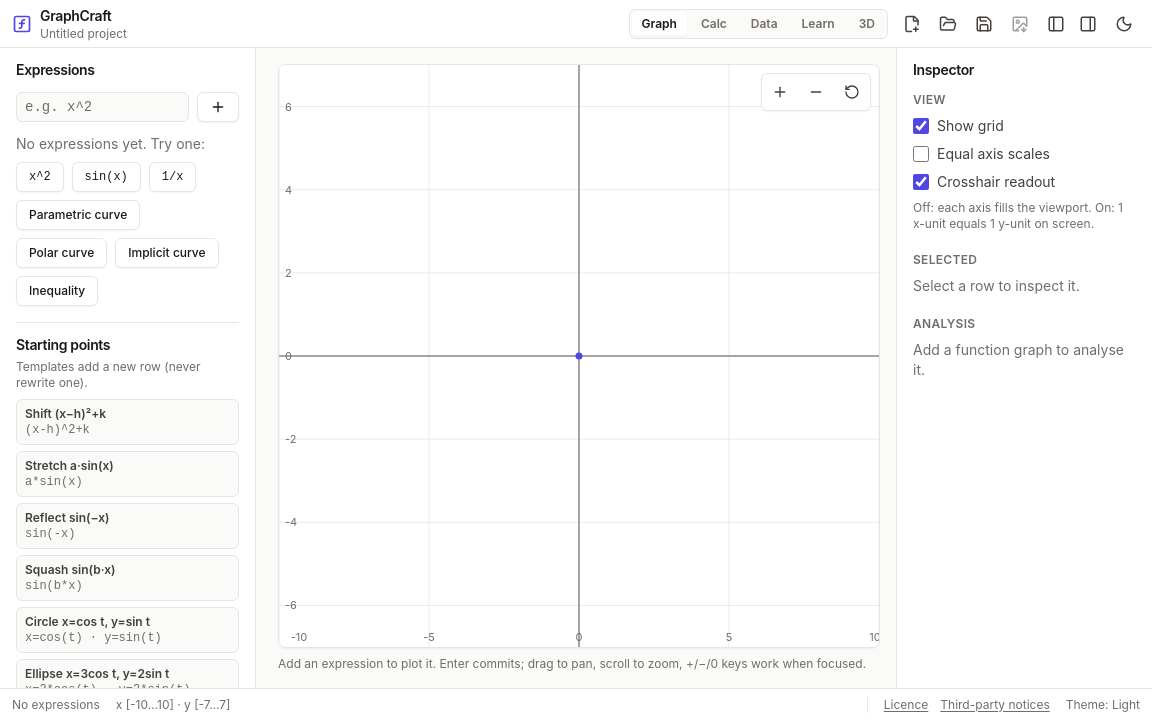
calculator workspace › builds expressions from the keypad, including Backspace
Click the button with aria-label "Show calculator" at coordinates (714, 24), box [691,12,737,36]
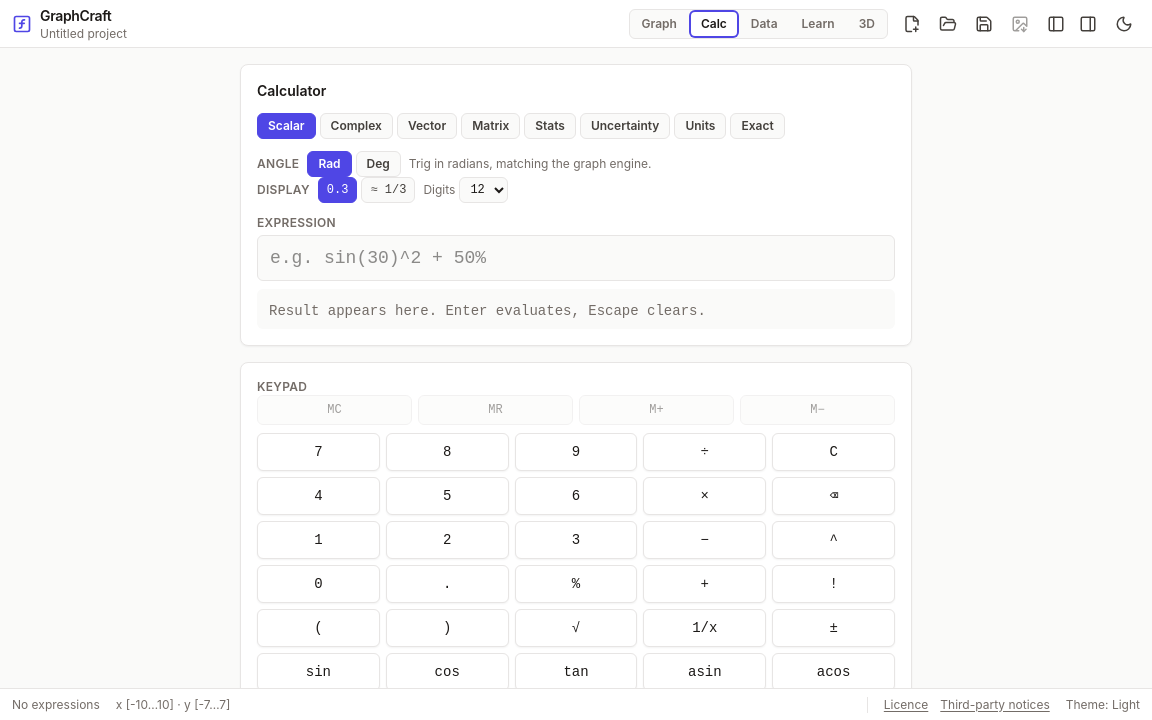
Now the element "Calculator" is shown
Now the field labelled "Expression" is shown, box [257,235,895,281]
Click the button named "Seven" at coordinates (318, 452), box [257,433,380,471]
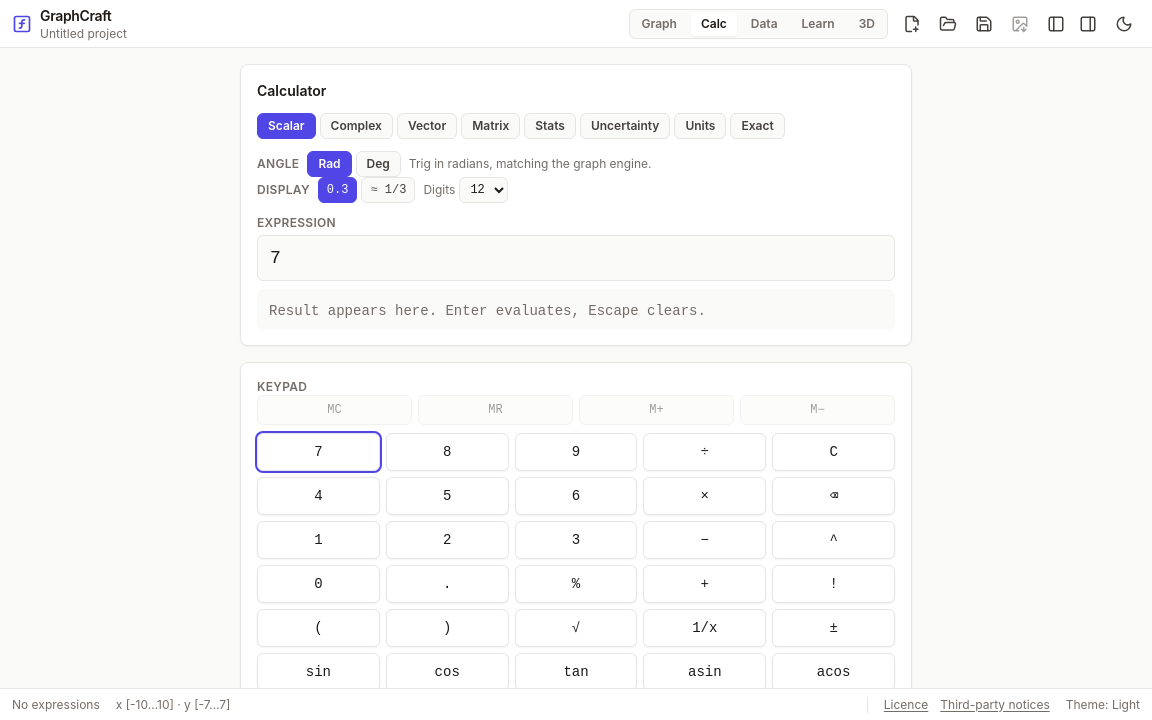
Click the button named "Multiply" at coordinates (705, 496), box [643,477,766,515]
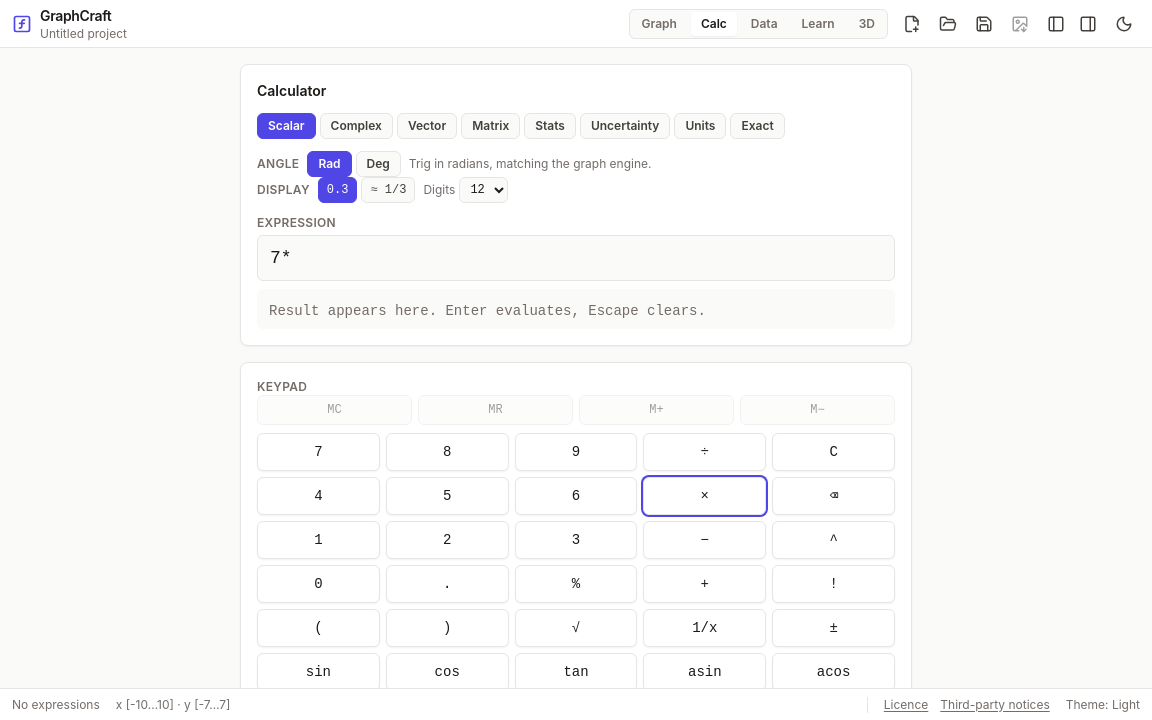
Click the button named "Six" at coordinates (576, 496), box [515,477,637,515]
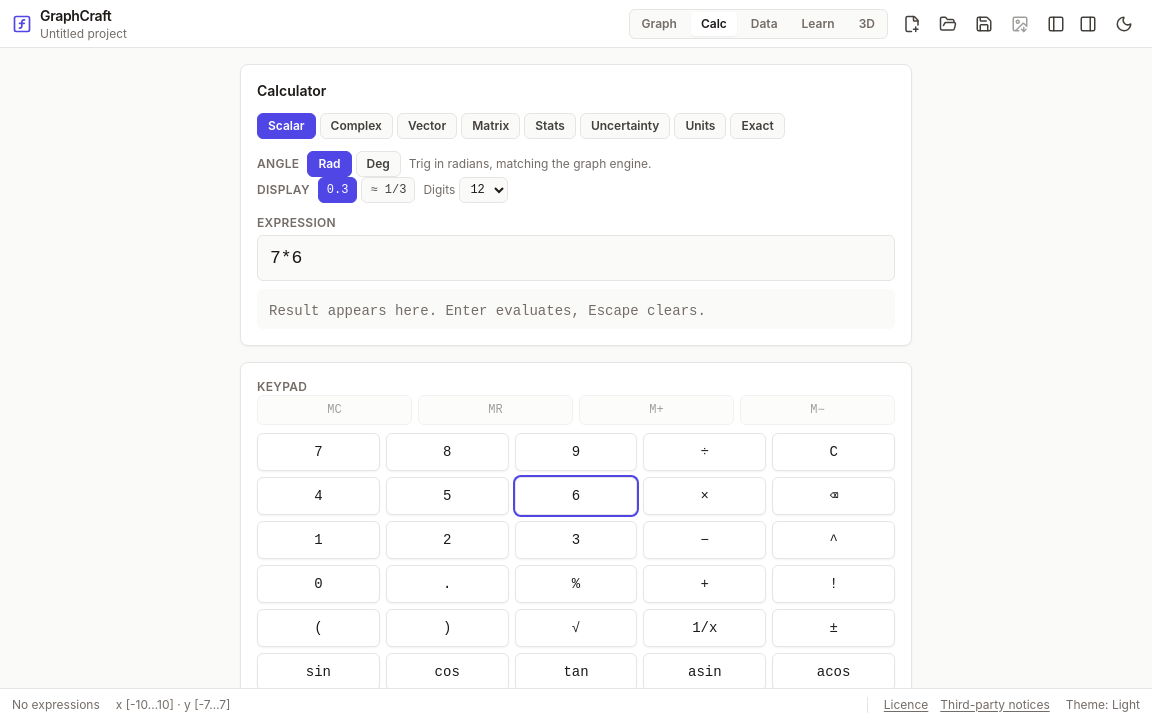
Now the field labelled "Expression" holds "7*6", box [257,235,895,281]
Click the button named "Backspace" at coordinates (834, 496), box [772,477,895,515]
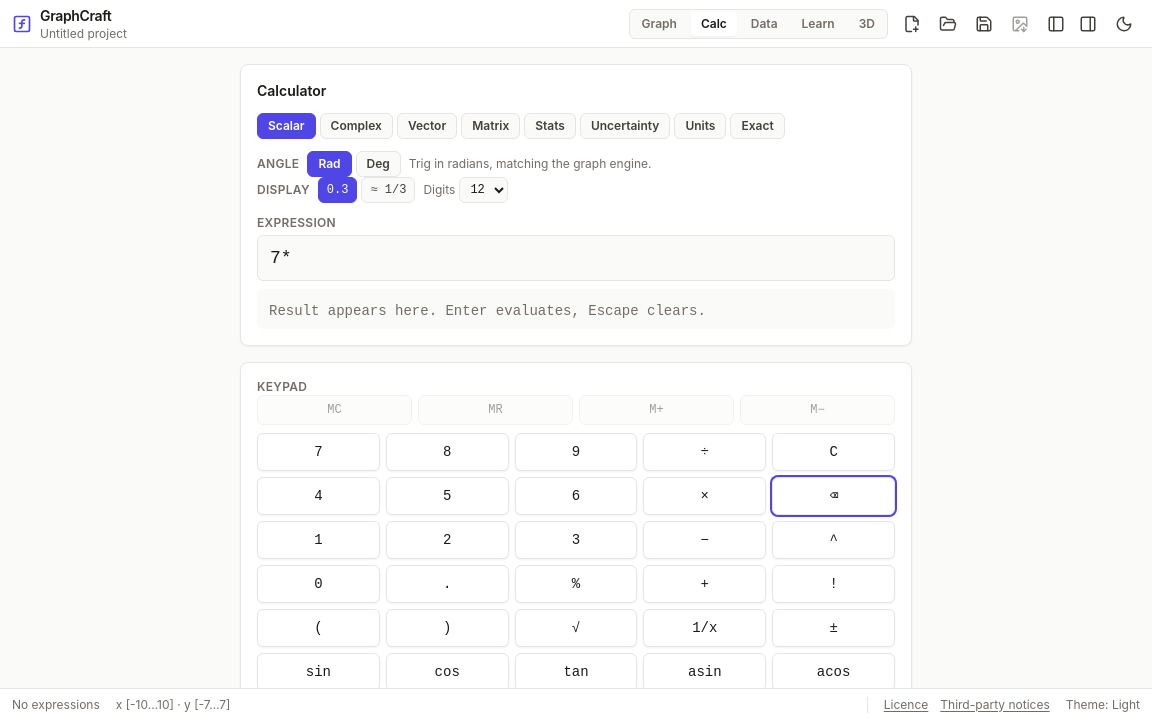
Now the field labelled "Expression" holds "7*", box [257,235,895,281]
